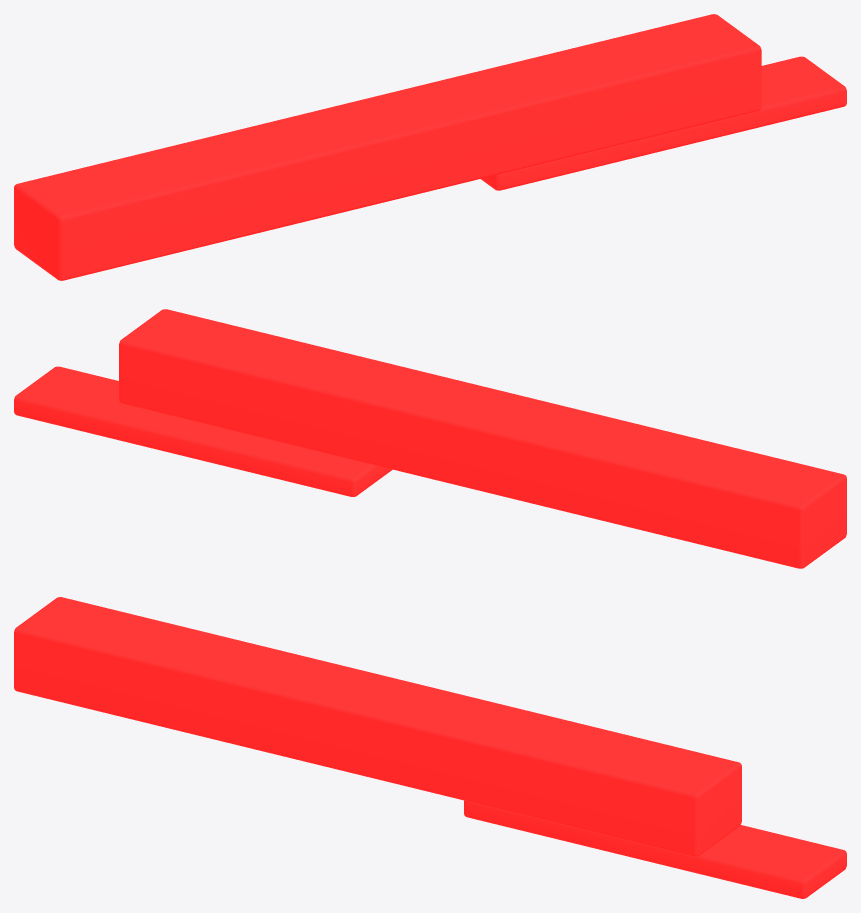
Rendered from tail_lamp_left.glb.
3 renders of one model, top to bottom at view 1: azimuth 30°, elevation 25°; view 2: azimuth 150°, elevation 25°; view 3: azimuth 330°, elevation 25°, orthographic. The views are drawn at different scales.
Visible parts, largest first — view 1: GEO_Taillight_Left; view 2: GEO_Taillight_Left; view 3: GEO_Taillight_Left.
Boxes of the visible parts, x1=… form: GEO_Taillight_Left: x1=14, y1=14, x2=846, y2=280; GEO_Taillight_Left: x1=14, y1=309, x2=846, y2=568; GEO_Taillight_Left: x1=14, y1=597, x2=846, y2=898.
Bounding box in the file's own units: 0.41 × 0.046 × 0.051.
